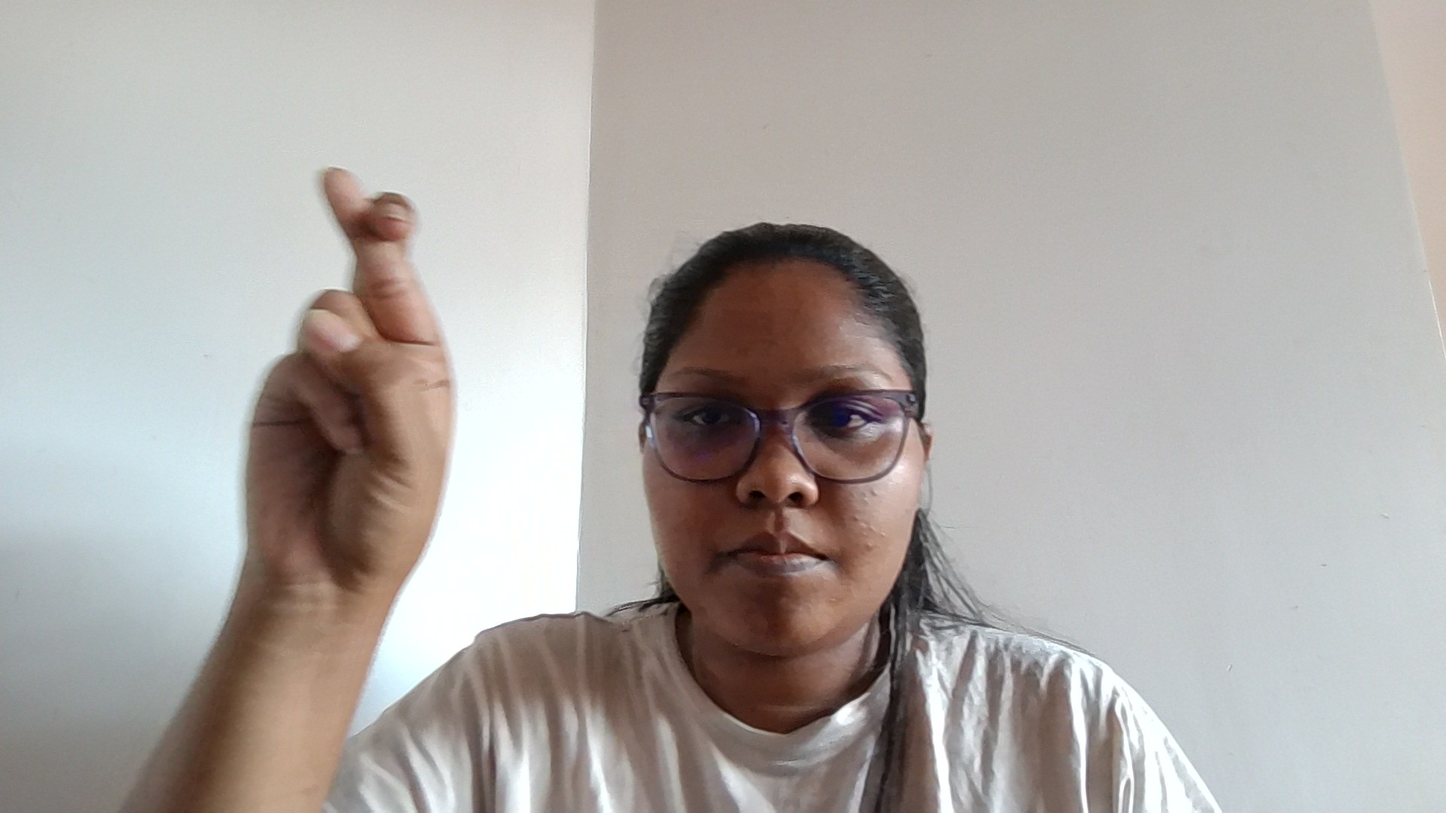Good_Luck: (156, 90, 542, 690)
